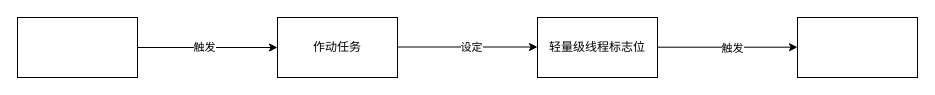
The diagram is 935 pixels wide and 95 high, and some of its shapes have lost their labels. Each missing label, with the centre of its shape:
反馈任务: (x=857, y=47)
硬件外部中断: (x=77, y=47)
